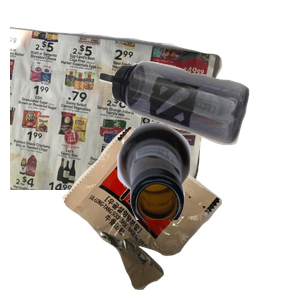glass: (115, 120, 300, 300)
paper: (10, 22, 225, 202)
plastic: (97, 59, 300, 197)
trash: (59, 124, 273, 300)
